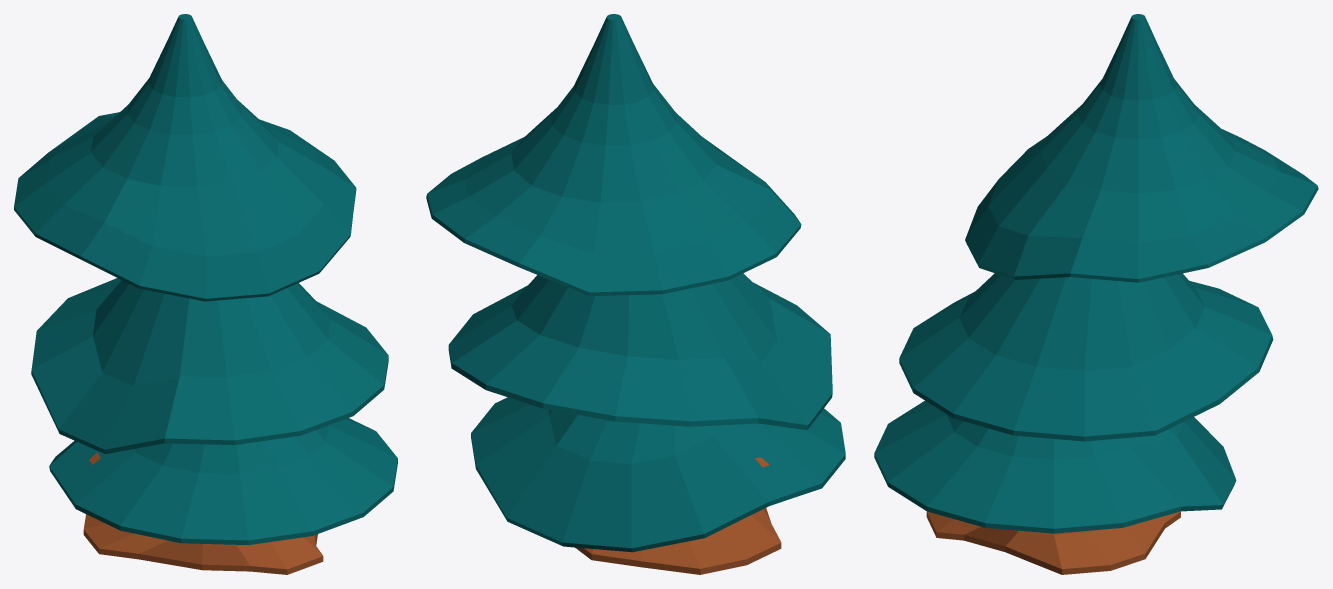
The model's file is _rvore.fbx.
3 renders of one model, left to right at view 1: azimuth 30°, elevation 25°; view 2: azimuth 150°, elevation 25°; view 3: azimuth 270°, elevation 25°, orthographic. The views are drawn at different scales.
Parts seen in each view (by area): view 1: Cylinder; view 2: Cylinder; view 3: Cylinder.
Part boxes in pixels (x1,y1,x2,y2): Cylinder: [14, 14, 397, 574]; Cylinder: [426, 14, 845, 574]; Cylinder: [874, 14, 1318, 574].
Bounding box in the file's own units: 423 × 635 × 511.
